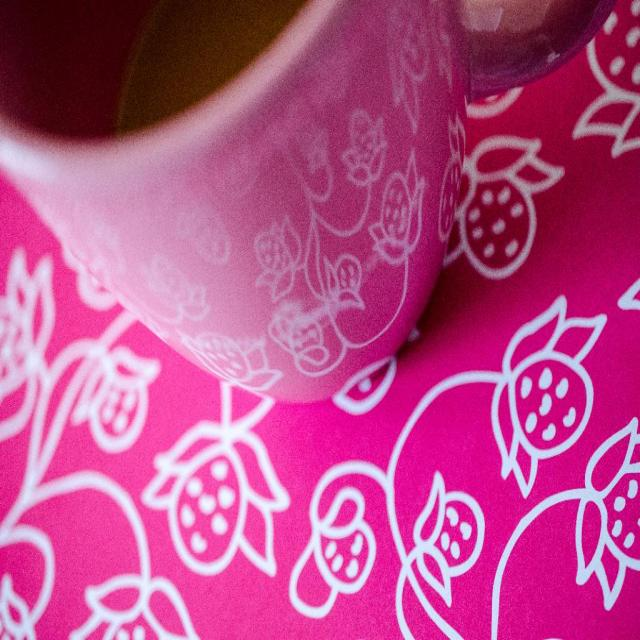Tea: (115, 0, 312, 137)
